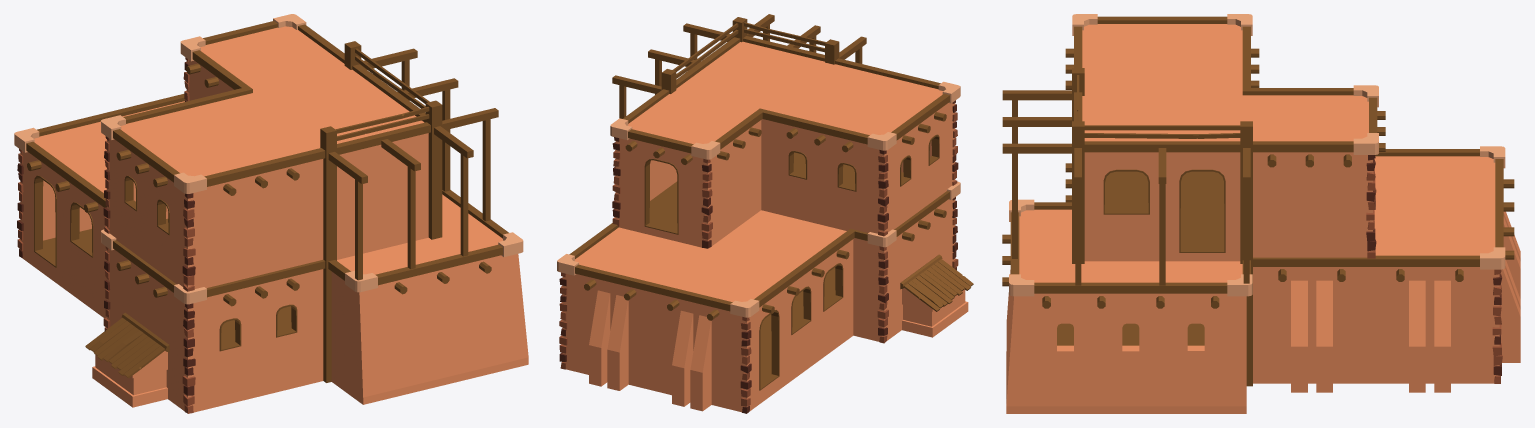
File: House.005.fbx
3 views of the same model, side by side, from view 1: azimuth 30°, elevation 25°; view 2: azimuth 150°, elevation 25°; view 3: azimuth 270°, elevation 25° (orthographic). The views are drawn at different scales.
Visible parts, largest first — view 1: NewHouse.005; view 2: NewHouse.005; view 3: NewHouse.005.
Part boxes in pixels (x1,y1,x2,y2): NewHouse.005: [14, 14, 528, 413]; NewHouse.005: [557, 14, 973, 413]; NewHouse.005: [1002, 14, 1520, 413].
Bounding box in the file's own units: 10 × 6.8 × 12.3.
